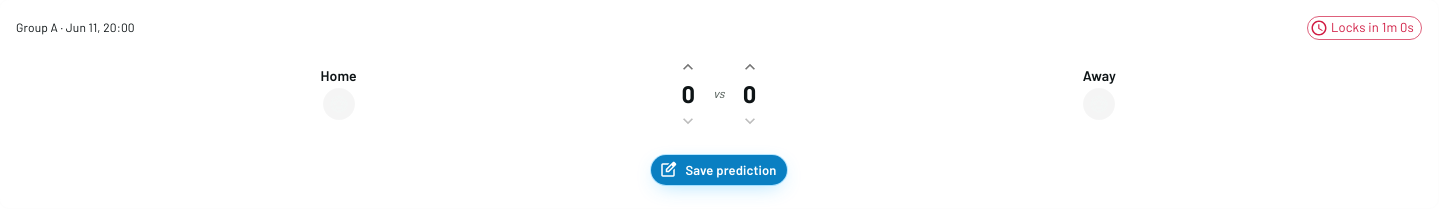
Test: FixtureCard › shows the strict group-window lock hint as a tooltip on the Locks-in chip
Expected: the text "group-stage picks lock" is not shown
Hover over the text "Locks in 1m 0s" at [1372, 28], box [1324, 18, 1421, 38]
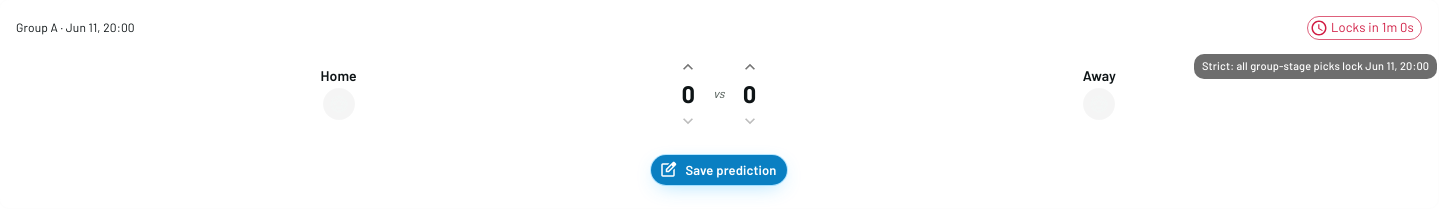
Expected: the tooltip shows "group-stage picks lock", [1202, 59, 1429, 72]
